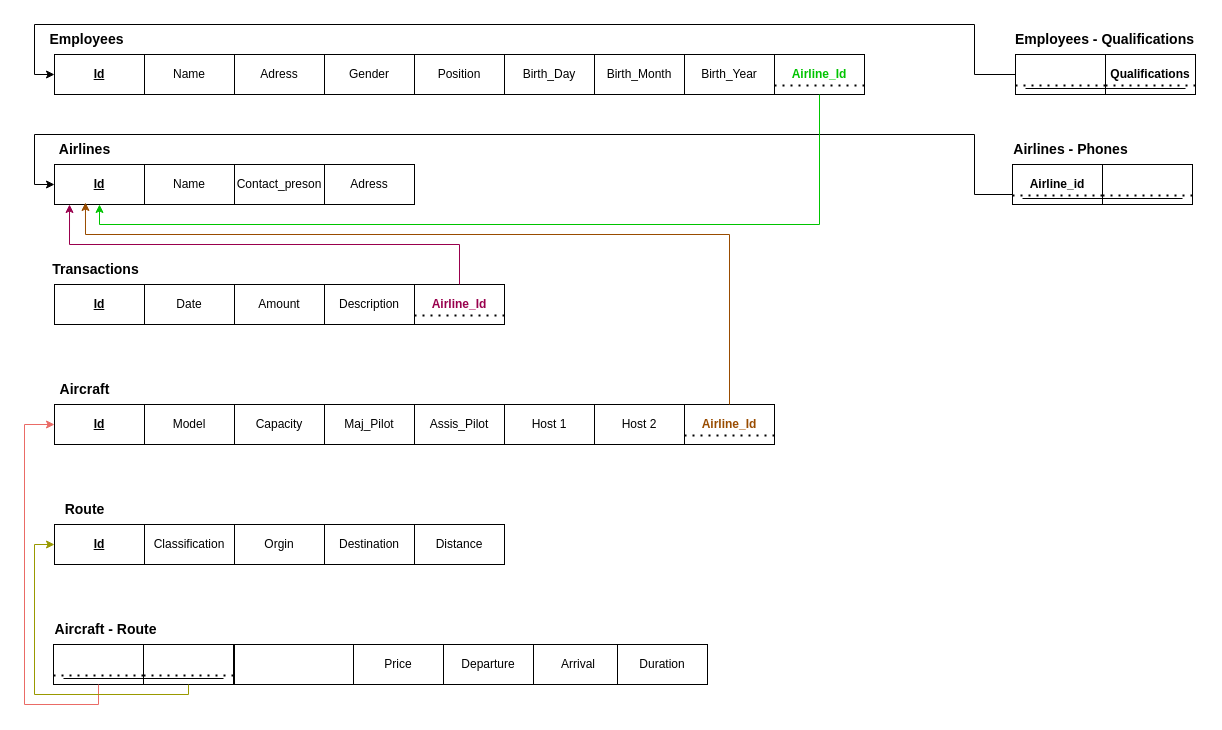
The diagram is 1222 pixels wide and 730 high, and some of its shapes have lost their labels. The shapes that lost their labels are listed below. From the top down, each one's box as (x1, y1, x2, y2) in pixels, then its label:
(1014, 54, 1106, 94): Emp_Id
(1102, 164, 1192, 204): Phone
(52, 644, 144, 684): Aircraft _id
(142, 644, 234, 684): Route_Id
(234, 644, 354, 684): Num_of_Passengers
